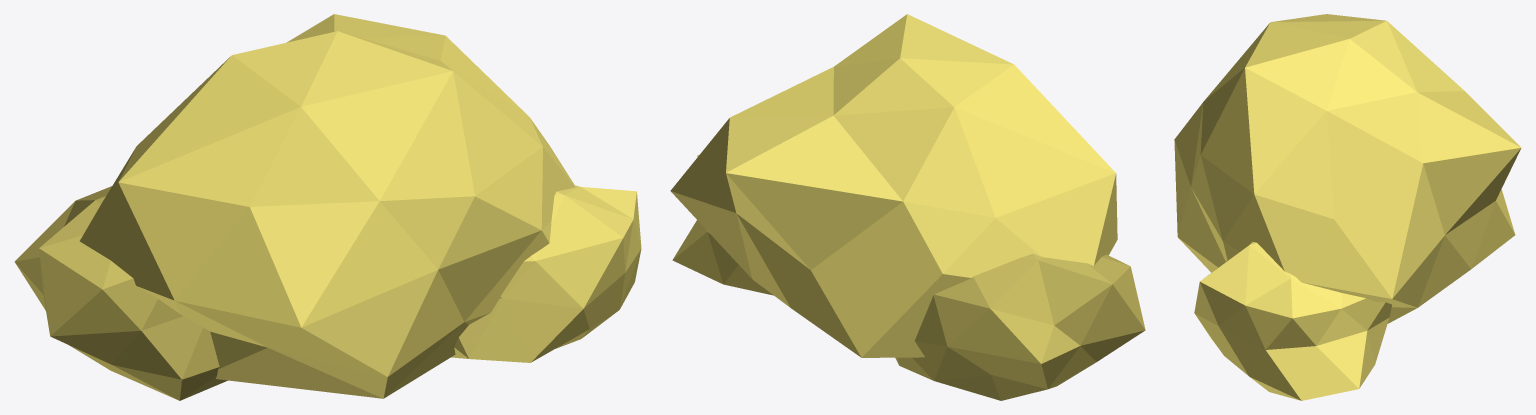
The model's file is t7_rock_full.glb.
The picture shows the model from 3 angles, left to right: view 1: azimuth 30°, elevation 25°; view 2: azimuth 150°, elevation 25°; view 3: azimuth 270°, elevation 25°; orthographic projection. The views are drawn at different scales.
Parts seen in each view (by area): view 1: CenterRock, LeftRock, RightRock; view 2: CenterRock, LeftRock, RightRock; view 3: CenterRock, RightRock.
Boxes of the visible parts, x1,y1,x2,y2 form: CenterRock: (80, 14, 575, 398); LeftRock: (14, 186, 227, 400); RightRock: (451, 185, 641, 362); CenterRock: (670, 14, 1117, 357); LeftRock: (895, 254, 1145, 400); RightRock: (672, 154, 773, 295); CenterRock: (1174, 14, 1521, 323); RightRock: (1194, 242, 1391, 400).
Bounding box in the file's own units: 1.55 × 0.8681 × 0.9954.
